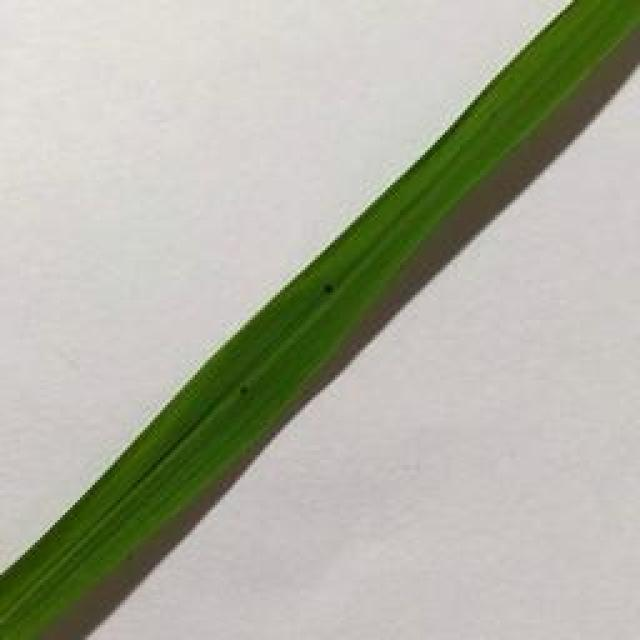Brown_Spot: (314, 274, 339, 298), (237, 375, 252, 399)
